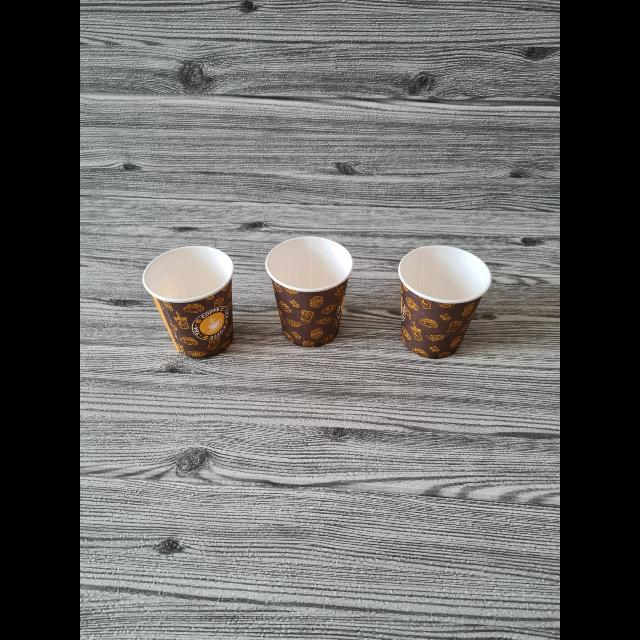trash: (136, 248, 240, 360), (264, 237, 358, 356), (394, 246, 490, 358)
